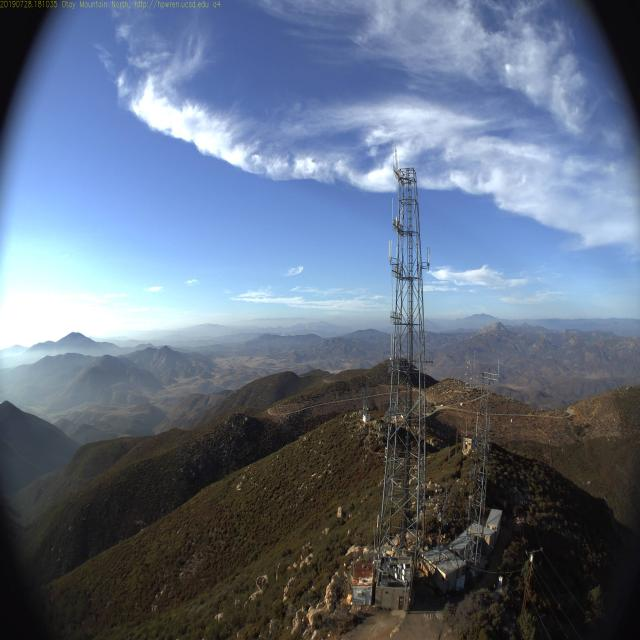smoke: (278, 328, 292, 343)
